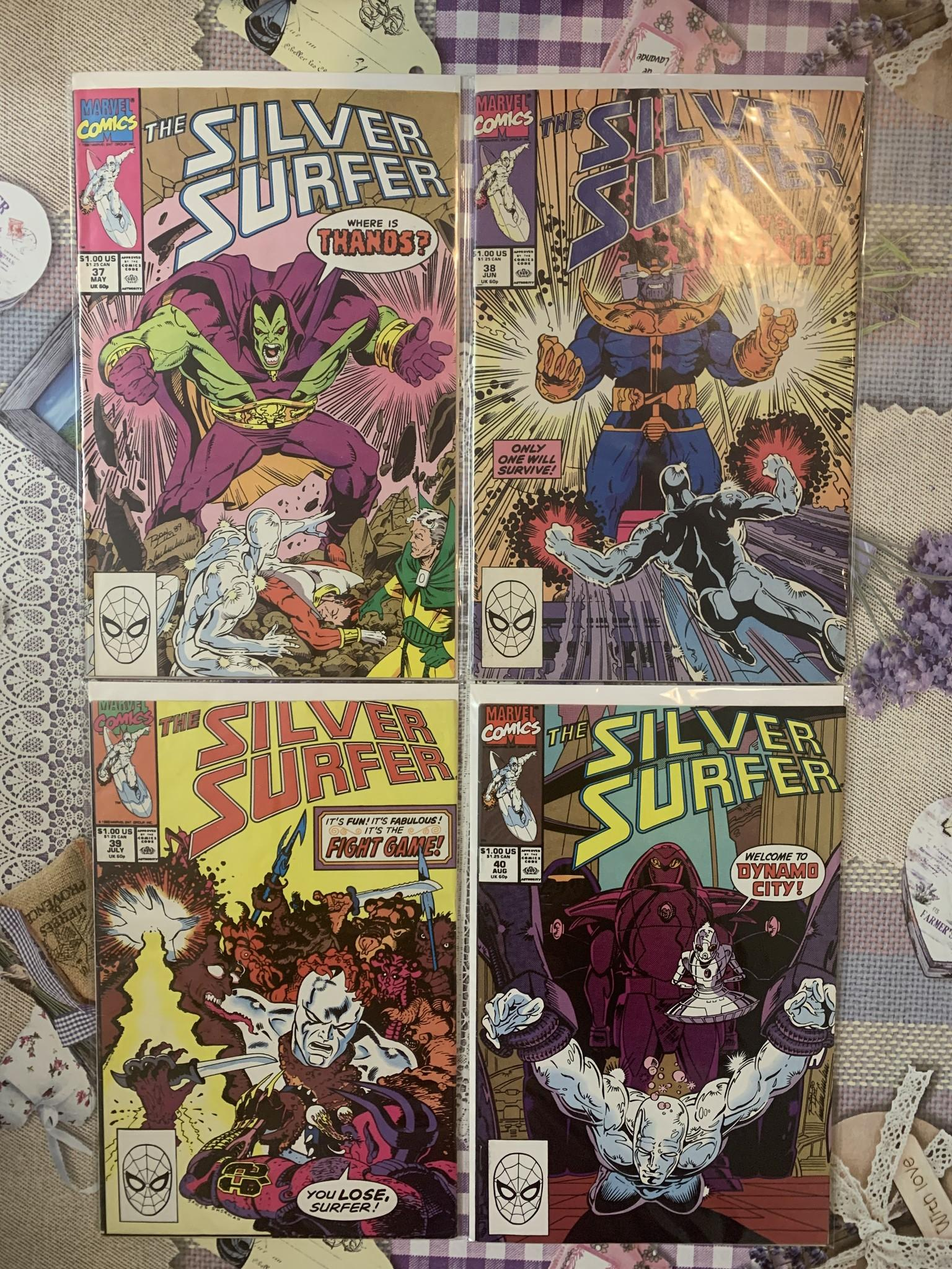comic: (466, 73, 863, 685), (74, 74, 458, 679), (468, 687, 844, 1244), (90, 688, 457, 1237)
